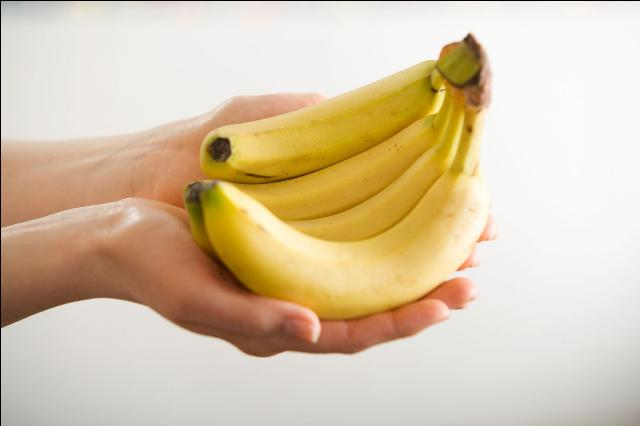Bananas: (185, 32, 490, 316)
